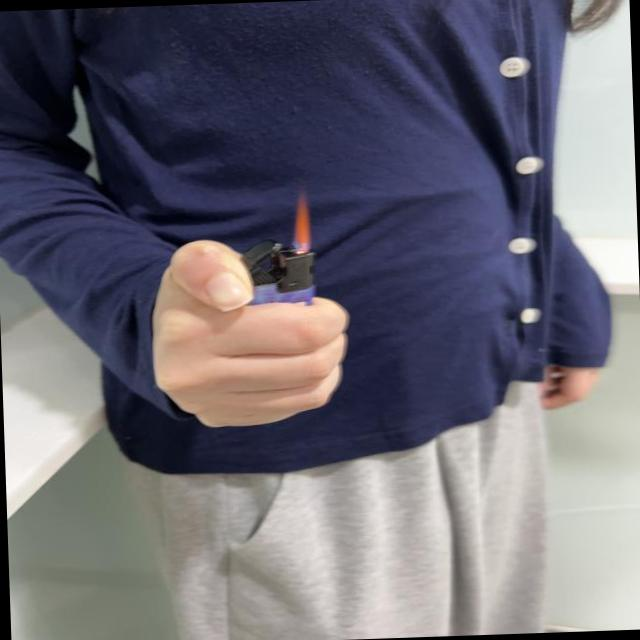Fire: (289, 194, 314, 252)
